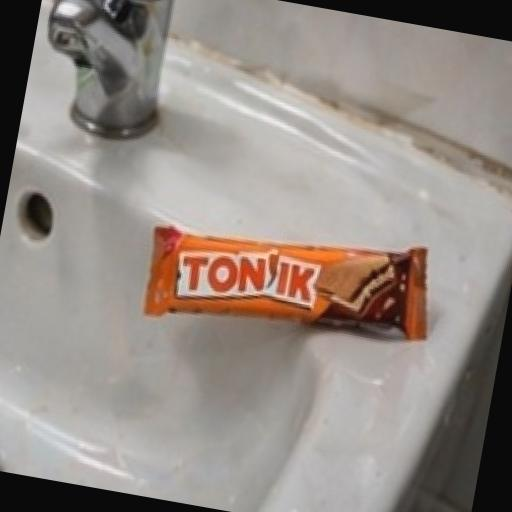tonik: (22, 64, 480, 440)
